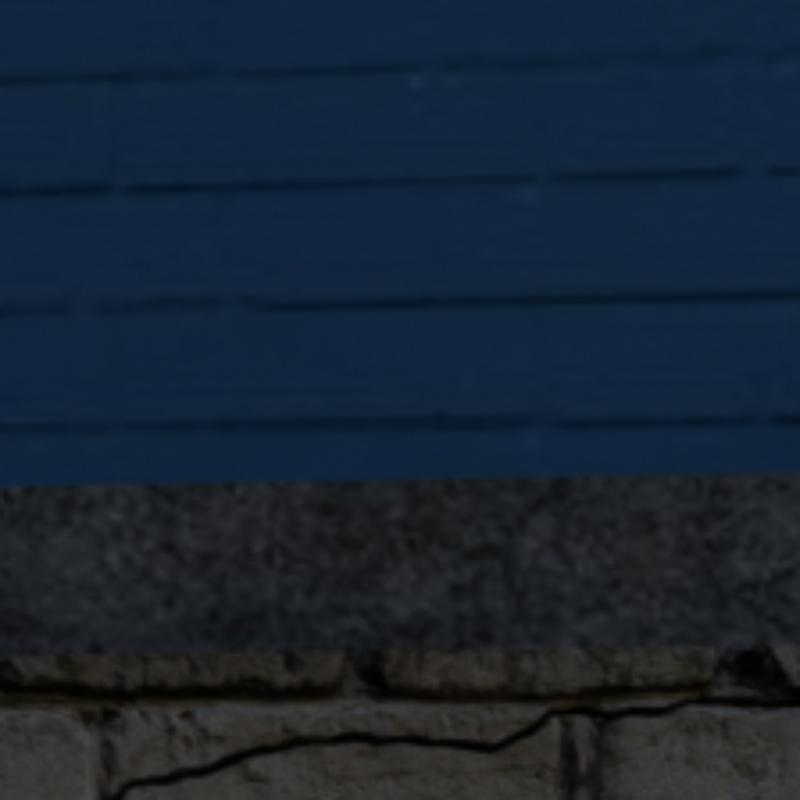pothole: (111, 696, 796, 796)
